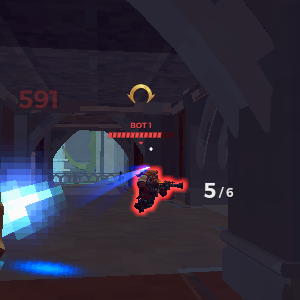model: (134, 166, 168, 211)
